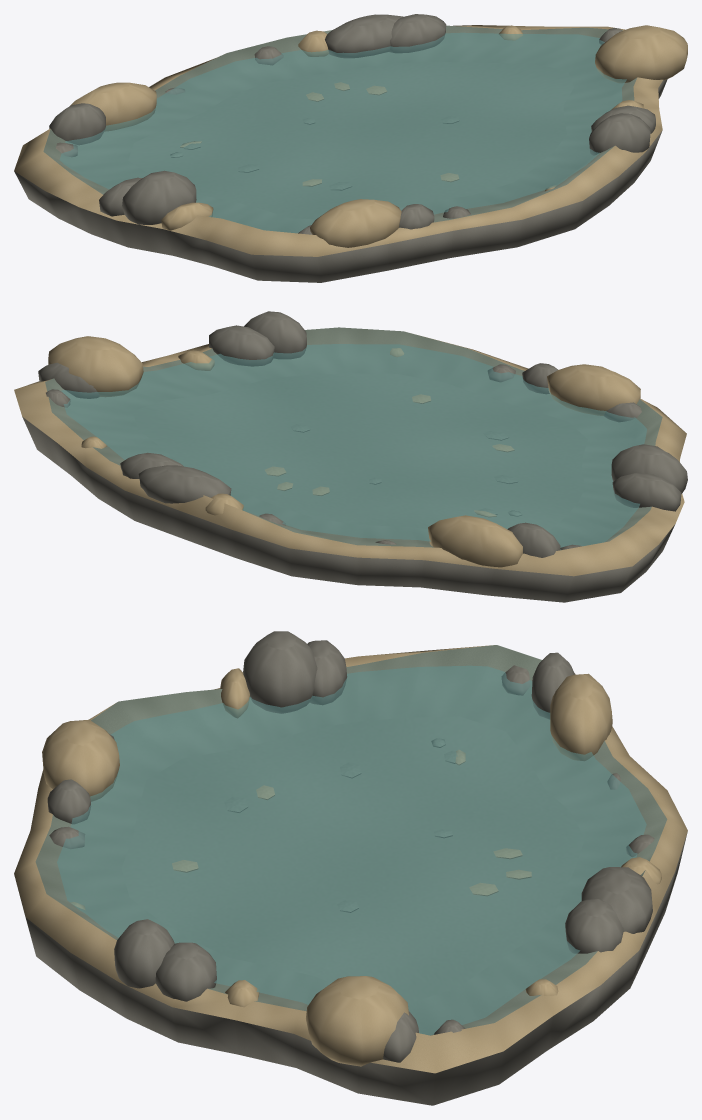
The model's file is SM_TidePool.fbx.
The picture shows the model from 3 angles, top to bottom: view 1: azimuth 30°, elevation 25°; view 2: azimuth 150°, elevation 25°; view 3: azimuth 270°, elevation 25°; orthographic projection. The views are drawn at different scales.
Visible parts, largest first — view 1: SM_TidePool; view 2: SM_TidePool; view 3: SM_TidePool.
Boxes of the visible parts, <box> form: SM_TidePool: <box>14,14,687,282</box>; SM_TidePool: <box>14,311,687,602</box>; SM_TidePool: <box>14,631,687,1105</box>.
Size of the model in its own units: 194 by 130 by 20.77.
Materials: 2 (2 with a texture image).
